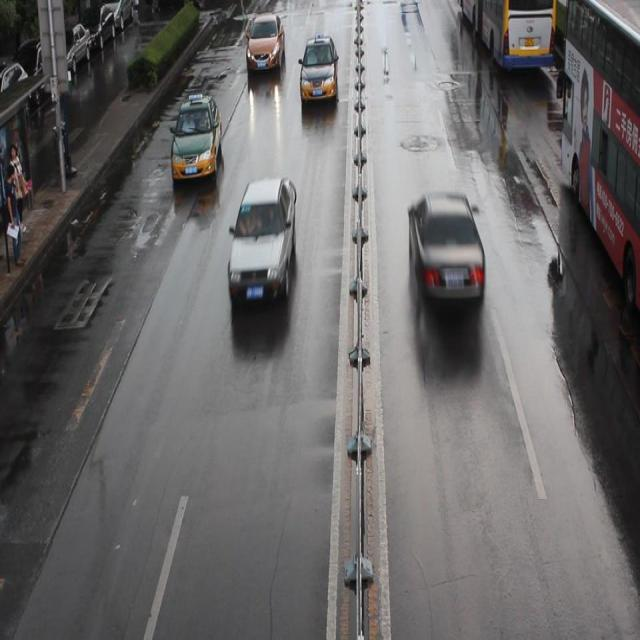car: (407, 187, 486, 300), (226, 178, 297, 300), (170, 93, 223, 181), (298, 37, 338, 103), (246, 10, 286, 73)
van: (558, 1, 640, 311), (456, 1, 557, 66)
